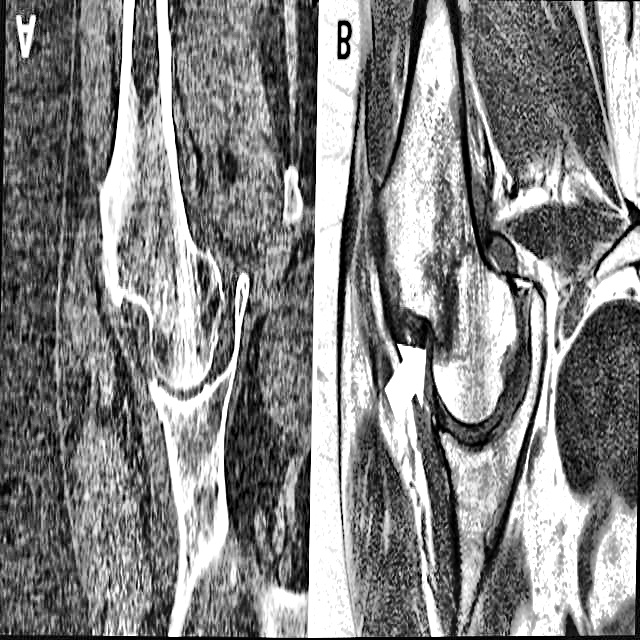Oblique Displaced: (427, 214, 481, 371)
